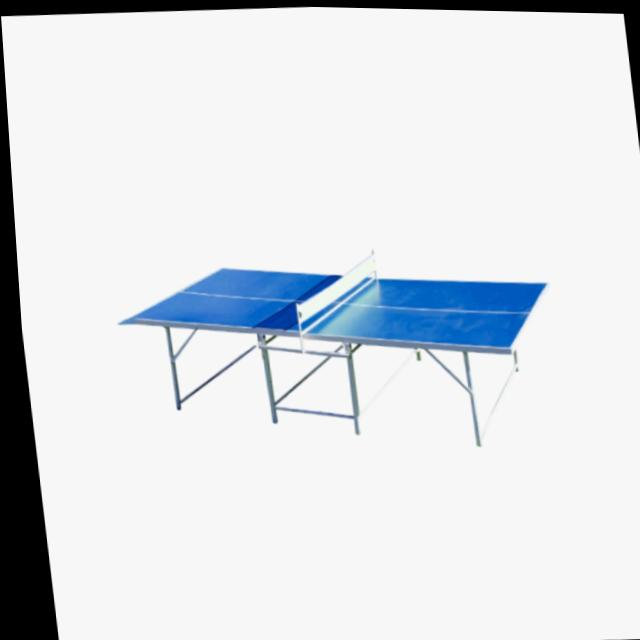TT Net: (290, 251, 382, 335)
TT Table: (125, 268, 547, 348)
